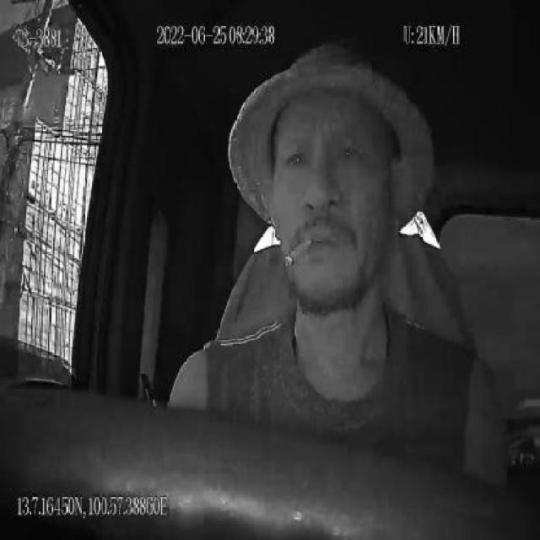smoking: (284, 235, 312, 266)
